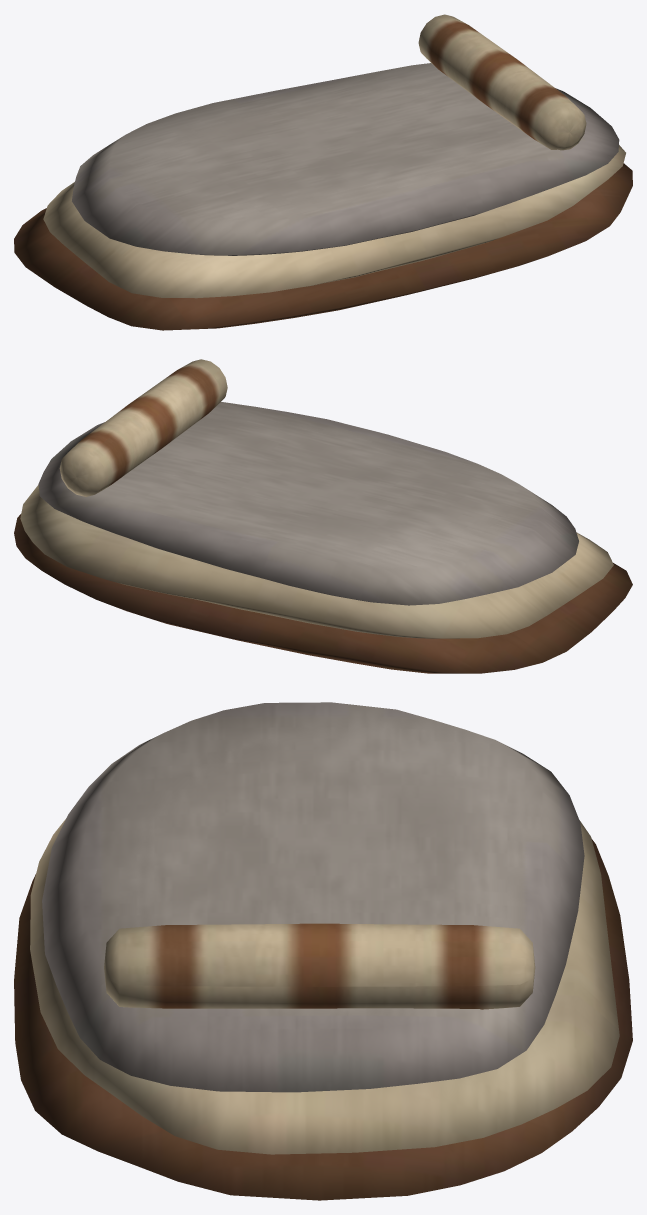
File: SM_Igloo_SleepFurs.glb
3 views of the same model, one above another, from view 1: azimuth 30°, elevation 25°; view 2: azimuth 150°, elevation 25°; view 3: azimuth 270°, elevation 25° (orthographic). The views are drawn at different scales.
Parts seen in each view (by area): view 1: SM_Igloo_SleepFurs; view 2: SM_Igloo_SleepFurs; view 3: SM_Igloo_SleepFurs.
Boxes of the visible parts, x1,y1,x2,y2 form: SM_Igloo_SleepFurs: [14, 14, 632, 330]; SM_Igloo_SleepFurs: [14, 359, 632, 673]; SM_Igloo_SleepFurs: [14, 702, 632, 1200].
Bounding box in the file's own units: 2.01 × 0.4758 × 1.21.
1 material, 1 textured.
